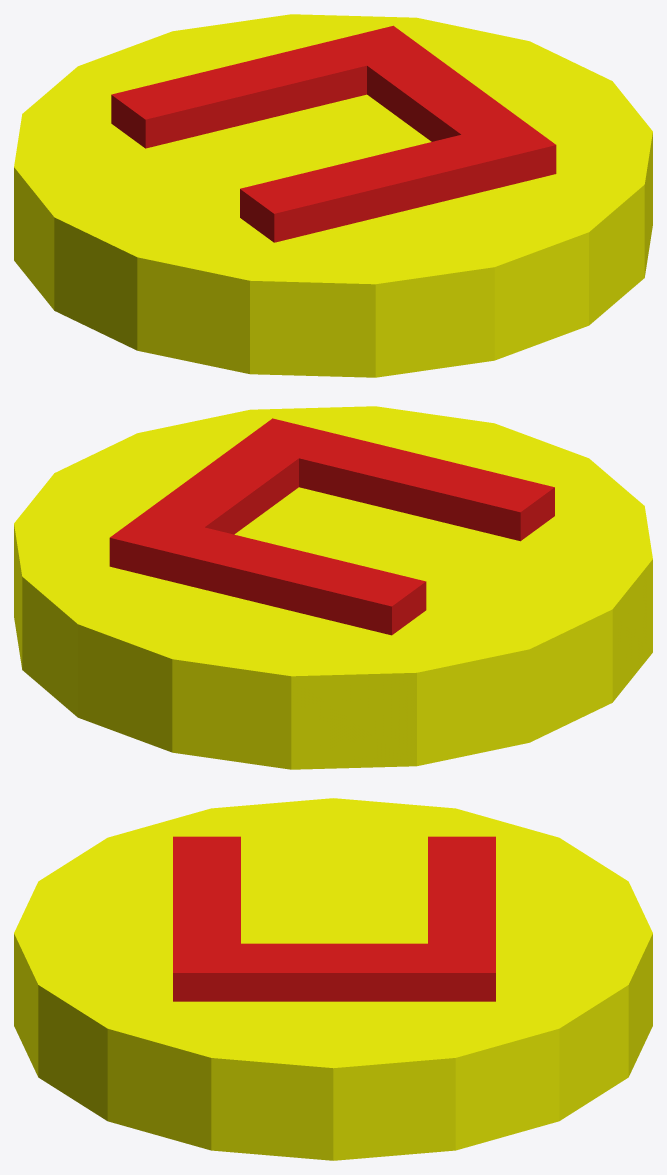
The model's file is money.fbx.
3 views of the same model, one above another, from view 1: azimuth 30°, elevation 25°; view 2: azimuth 150°, elevation 25°; view 3: azimuth 270°, elevation 25° (orthographic).
Visible parts, largest first — view 1: Cylinder; view 2: Cylinder; view 3: Cylinder.
Part boxes in pixels (x1,y1,x2,y2): Cylinder: [14, 14, 652, 377]; Cylinder: [14, 406, 652, 769]; Cylinder: [14, 798, 652, 1160].
Size of the model in its own units: 200 by 200 by 41.91.
